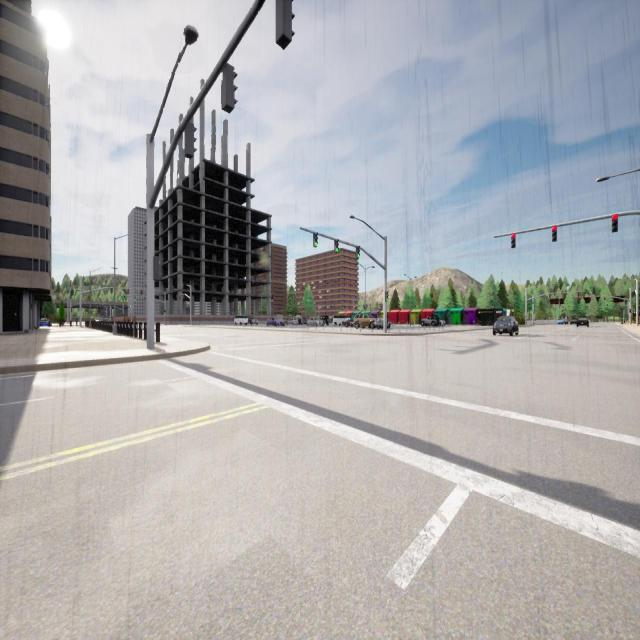Vehicle: (493, 316, 518, 335), (354, 314, 374, 328), (266, 316, 284, 326), (421, 316, 438, 326), (333, 315, 350, 325), (372, 320, 388, 329), (234, 315, 248, 325), (307, 318, 323, 326), (577, 318, 589, 327), (40, 318, 50, 326), (287, 318, 298, 325), (321, 316, 328, 325), (558, 319, 567, 325), (570, 318, 577, 324), (252, 318, 258, 325)
traffic_light: (276, 0, 295, 50), (222, 65, 237, 113), (185, 124, 197, 158), (154, 256, 159, 280), (612, 214, 618, 232), (313, 232, 318, 248), (552, 226, 556, 242), (512, 234, 516, 248), (334, 239, 338, 252), (356, 246, 360, 258), (385, 291, 388, 302), (134, 296, 136, 300), (629, 309, 631, 313), (578, 296, 580, 299), (590, 296, 592, 299), (604, 297, 606, 300), (164, 310, 165, 315), (124, 296, 125, 299)
